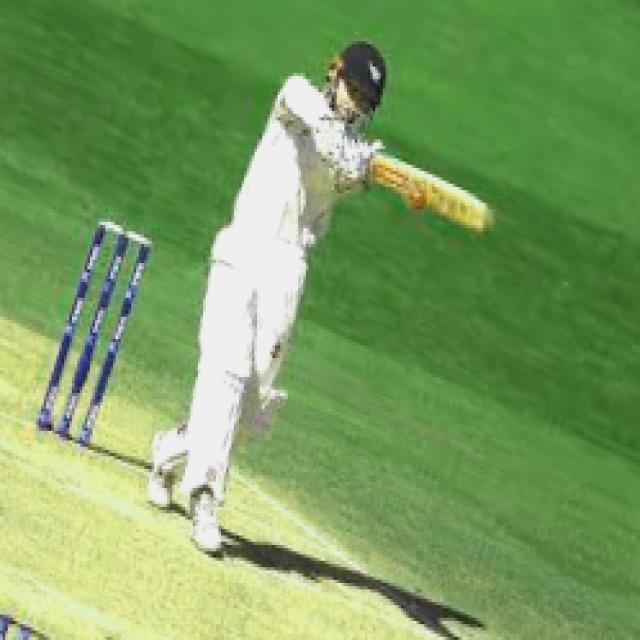toe: (471, 196, 494, 240)
